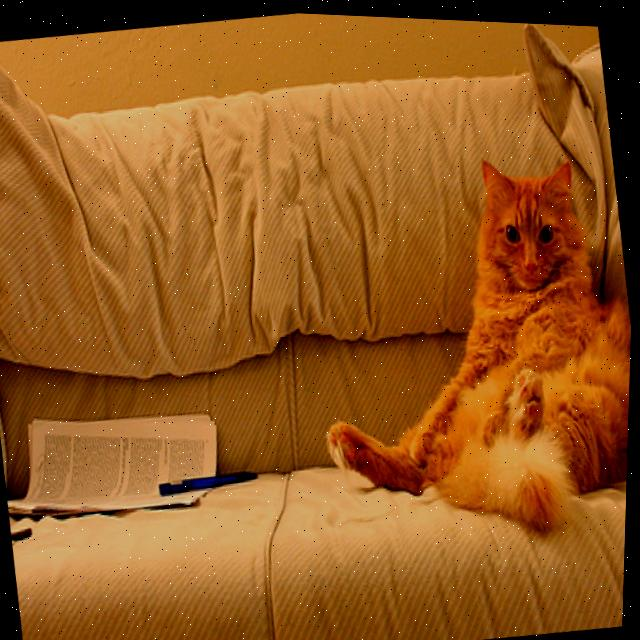Maine Coon: (286, 118, 637, 553)
